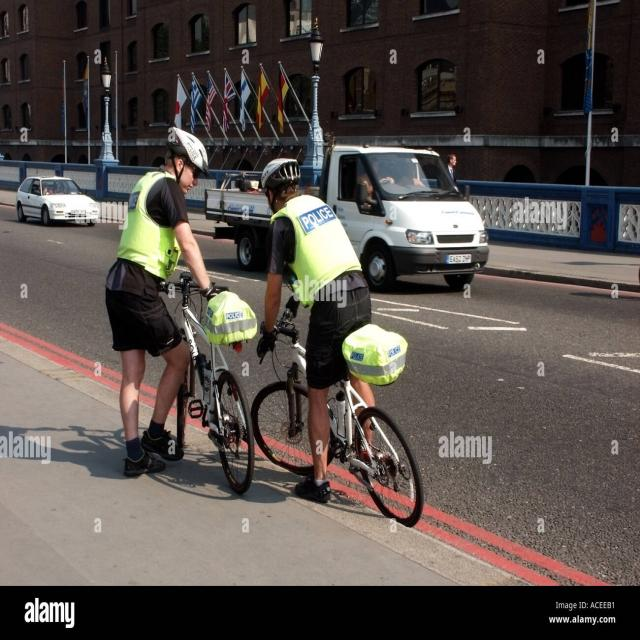Reflective-Jacket: (270, 194, 367, 309), (113, 170, 188, 288)
Safety-Helmet: (162, 123, 213, 179), (254, 152, 305, 194)
